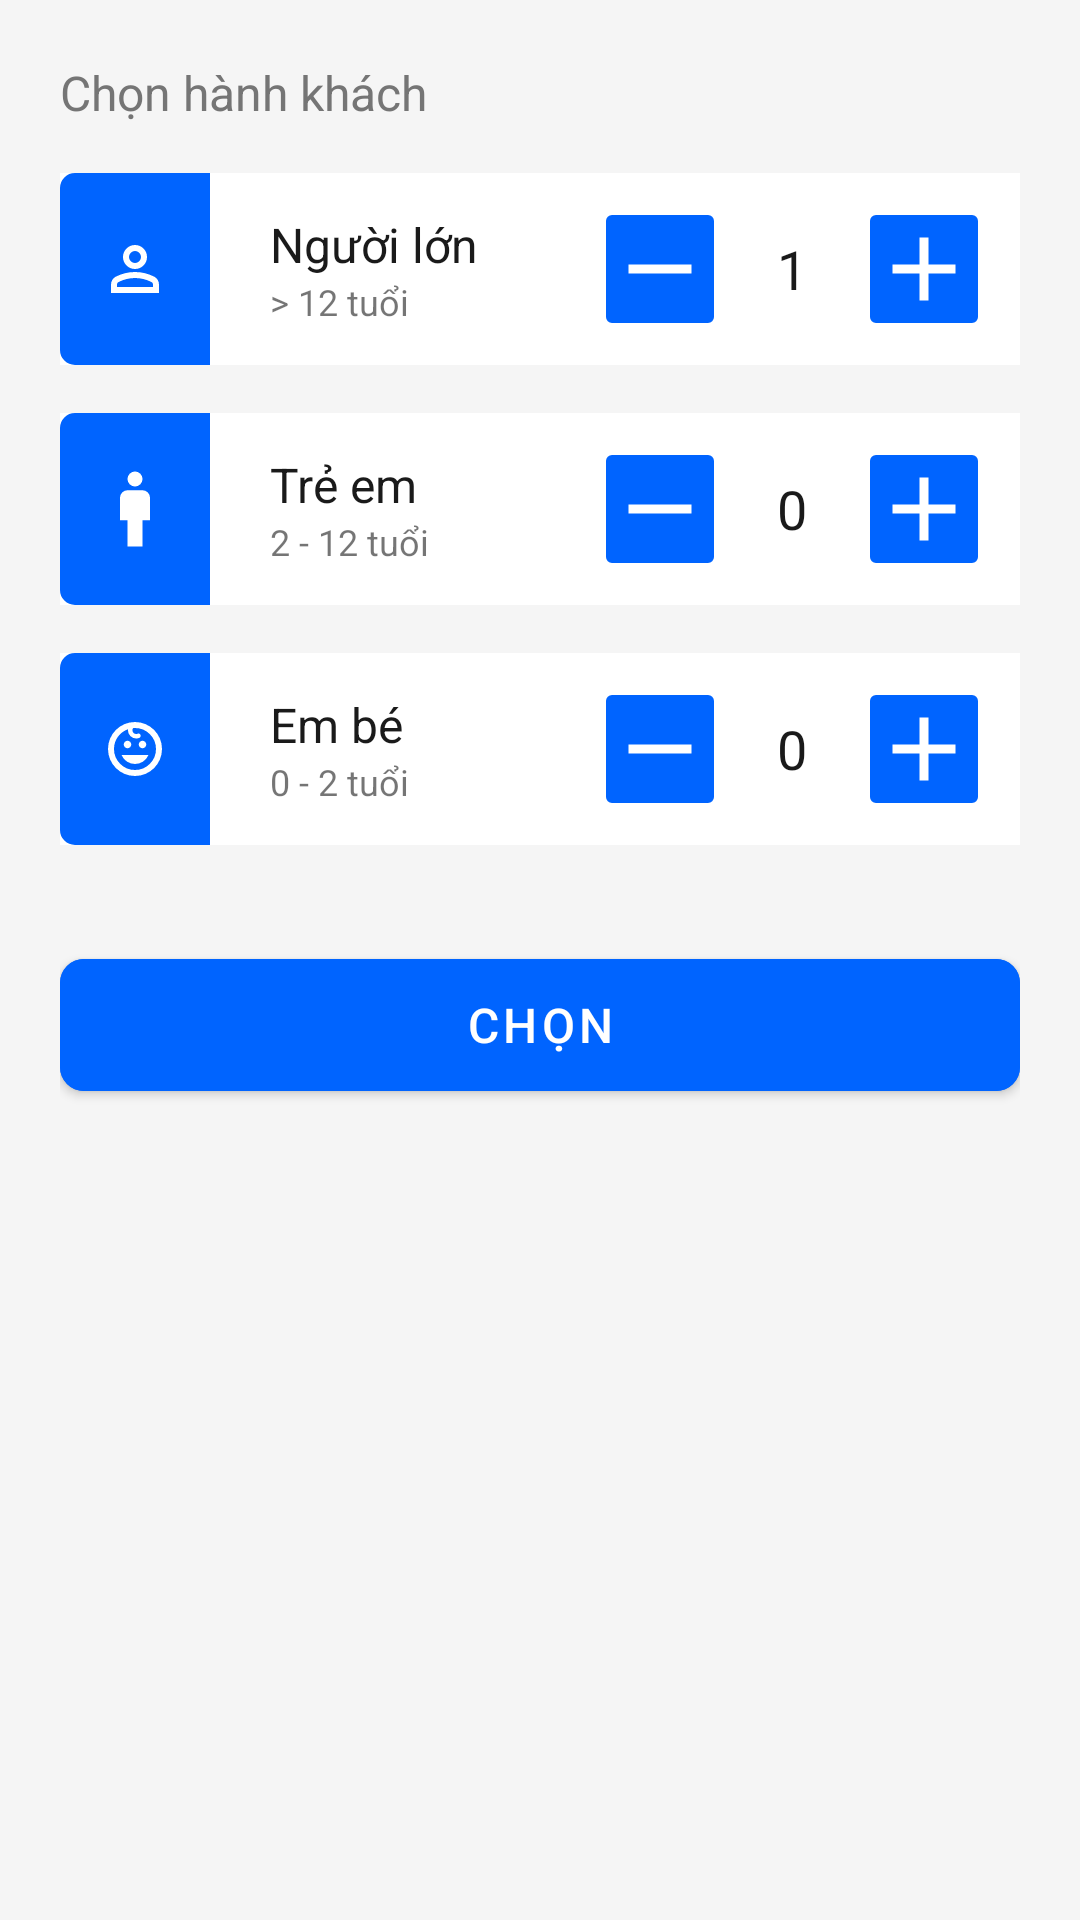

Icon bounding boxes for this 1080 x 1920 phone screenshot, format (x1, y1, x2, y2):
baby: (60, 653, 210, 845)
child: (60, 413, 210, 605)
minus: (606, 215, 714, 323), (606, 455, 714, 563), (606, 695, 714, 803)
plus: (870, 215, 978, 323), (870, 455, 978, 563), (870, 695, 978, 803)
profile: (60, 173, 210, 365)
